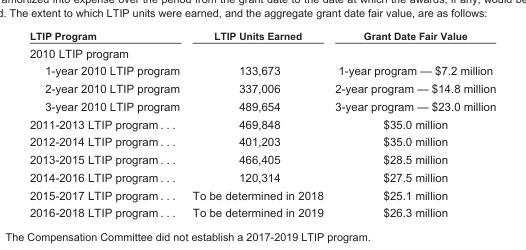table: (28, 29, 495, 218)
table column: (328, 29, 495, 218), (28, 29, 185, 218), (185, 29, 328, 218)
table column header: (28, 29, 495, 43)
table projected row header: (28, 43, 495, 61)
table row: (28, 43, 495, 61), (28, 61, 495, 79), (28, 79, 495, 97), (28, 114, 495, 132), (28, 132, 495, 150), (28, 150, 495, 168), (28, 185, 495, 203), (28, 97, 495, 114), (28, 168, 495, 185), (28, 203, 495, 218), (28, 29, 495, 43)
